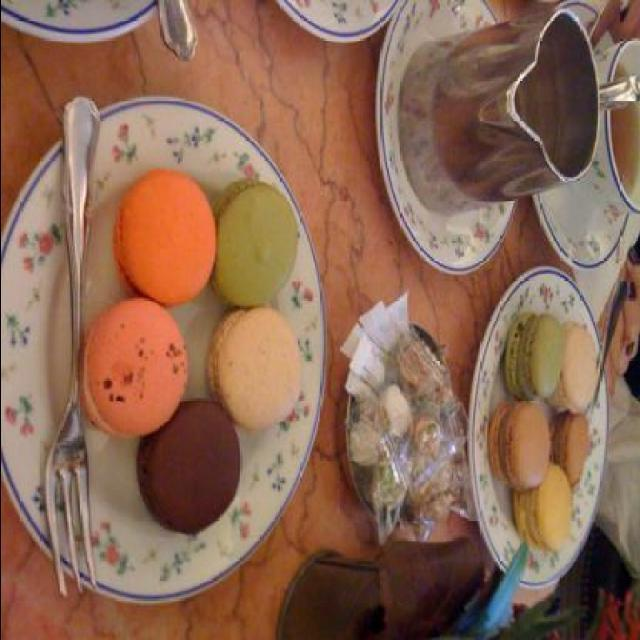Macaron: (78, 143, 314, 537), (492, 312, 604, 554)
